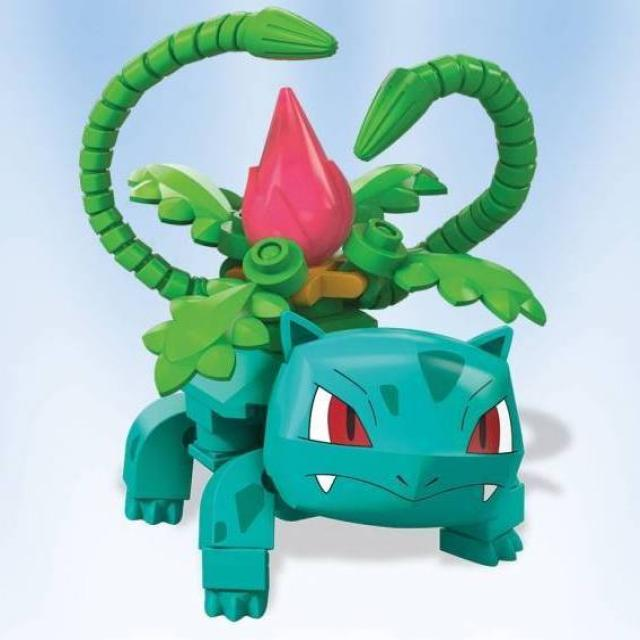Ivysaur: (165, 92, 522, 560)
